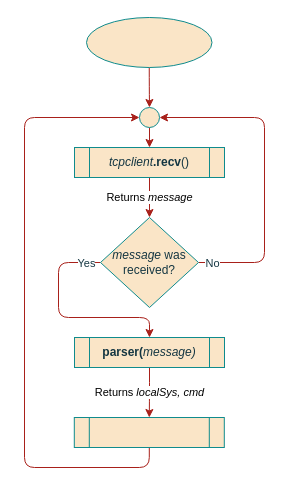
Image size: 290x493. Some labels were removed from this diagram. The box of each missing label's shape, as (x1, y1, x2, y2) in pixels:
localSys .push( cmd ): (73, 416, 224, 448)
tTCPRecv: (86, 16, 212, 68)
